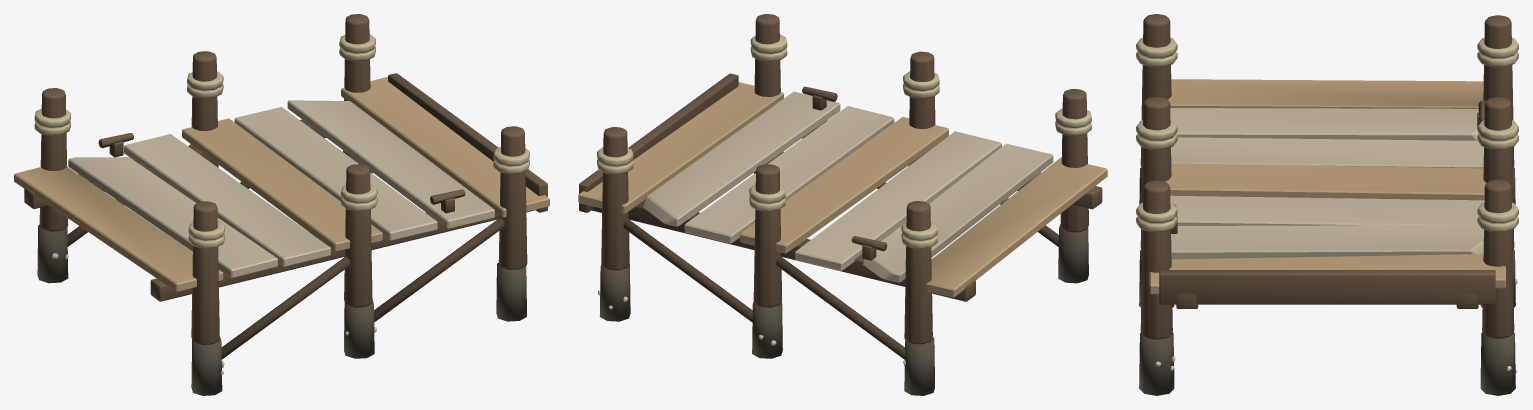
Rendered from dock_end.839a9057.glb.
3 views of the same model, side by side, from view 1: azimuth 30°, elevation 25°; view 2: azimuth 150°, elevation 25°; view 3: azimuth 270°, elevation 25° (orthographic). The views are drawn at different scales.
Visible parts, largest first — view 1: dock_end; view 2: dock_end; view 3: dock_end.
Part boxes in pixels (box(x1,y1,x2,y2)): dock_end: box(14, 14, 549, 395); dock_end: box(578, 14, 1107, 395); dock_end: box(1136, 14, 1518, 395).
Size of the model in its own units: 4 by 1.85 by 3.14.
